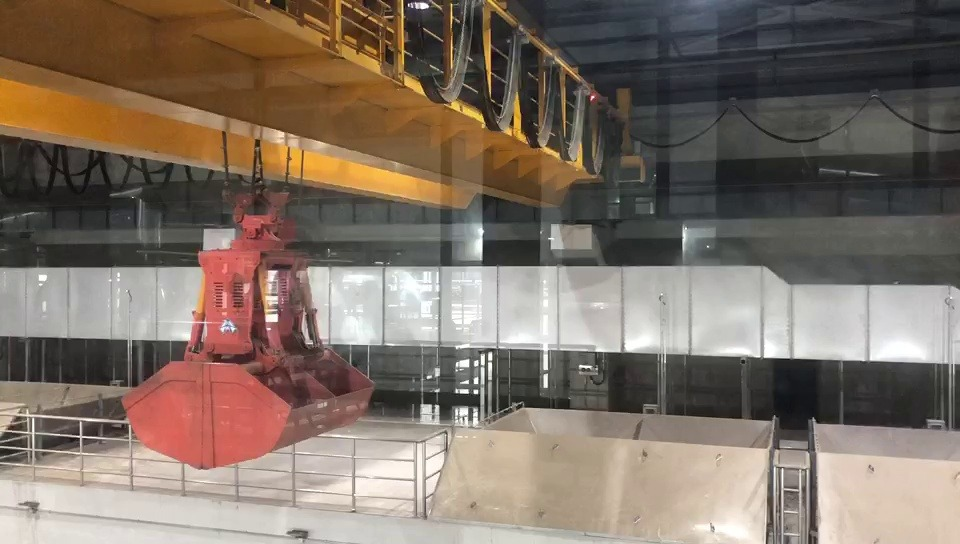grab: (120, 181, 381, 472)
